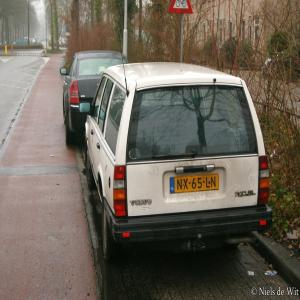Vehicle-registration-plate: (170, 174, 221, 195)
